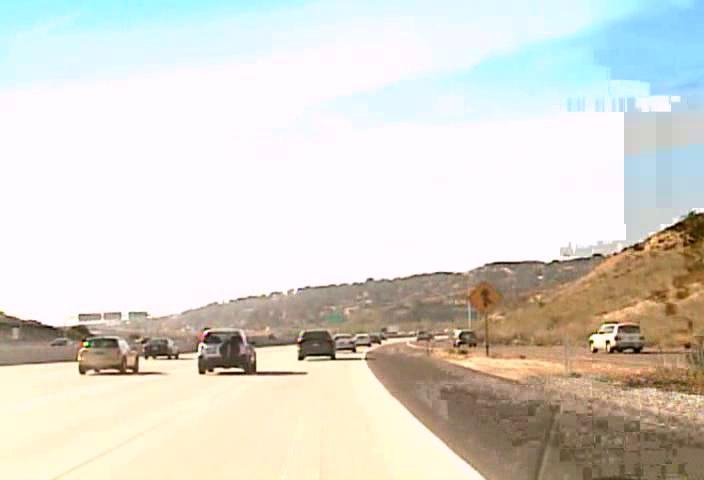merge: (467, 279, 501, 314)
